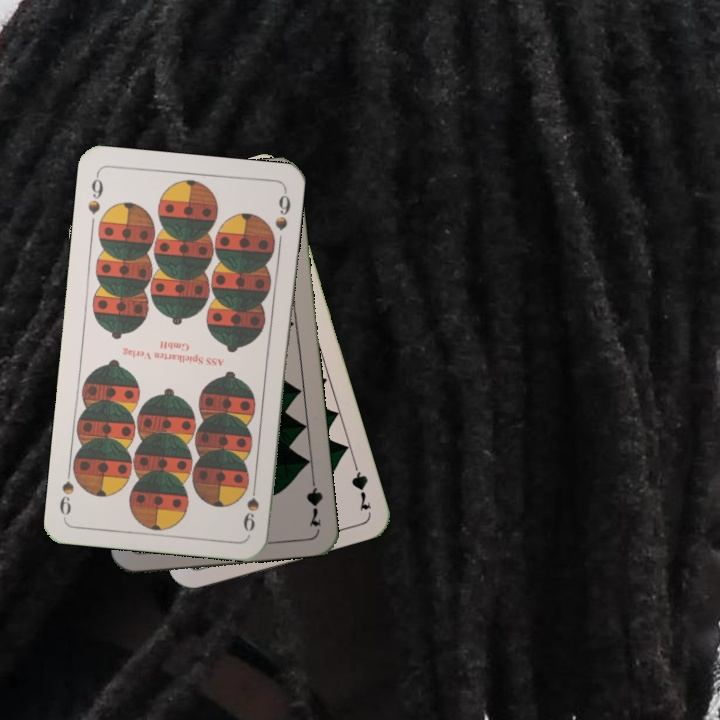G7: (347, 455, 374, 514), (302, 470, 325, 529)
S9: (239, 476, 261, 534), (84, 170, 106, 217)
